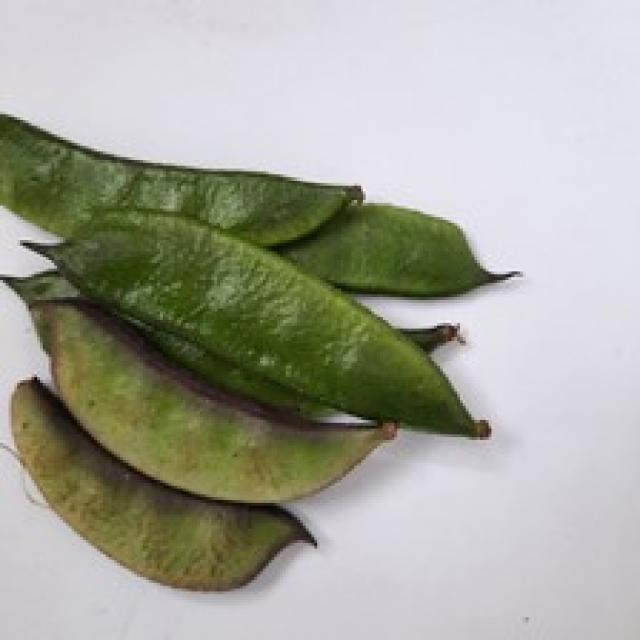Bean: (20, 206, 491, 440), (26, 291, 397, 503), (6, 374, 317, 592), (0, 105, 363, 248), (274, 200, 520, 297)
